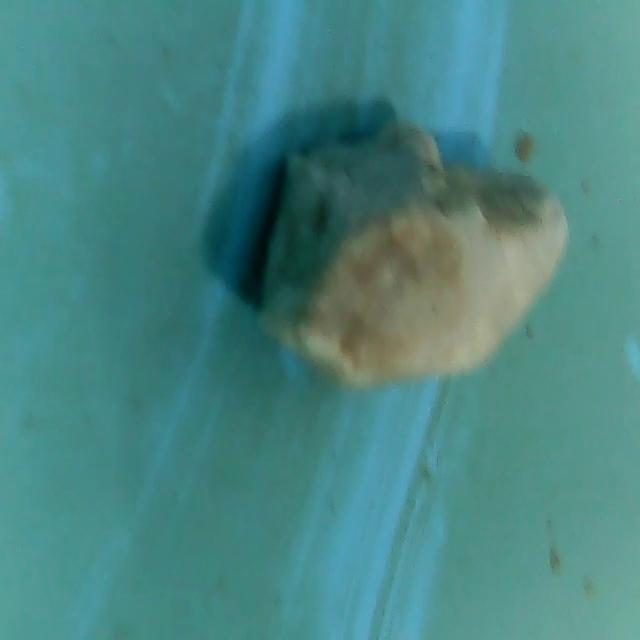rock: (252, 100, 582, 404)
